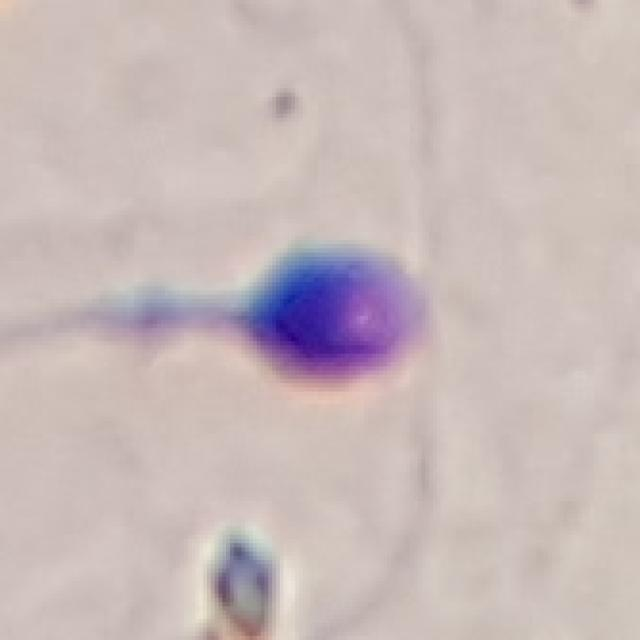normal sperm: (21, 239, 431, 390)
